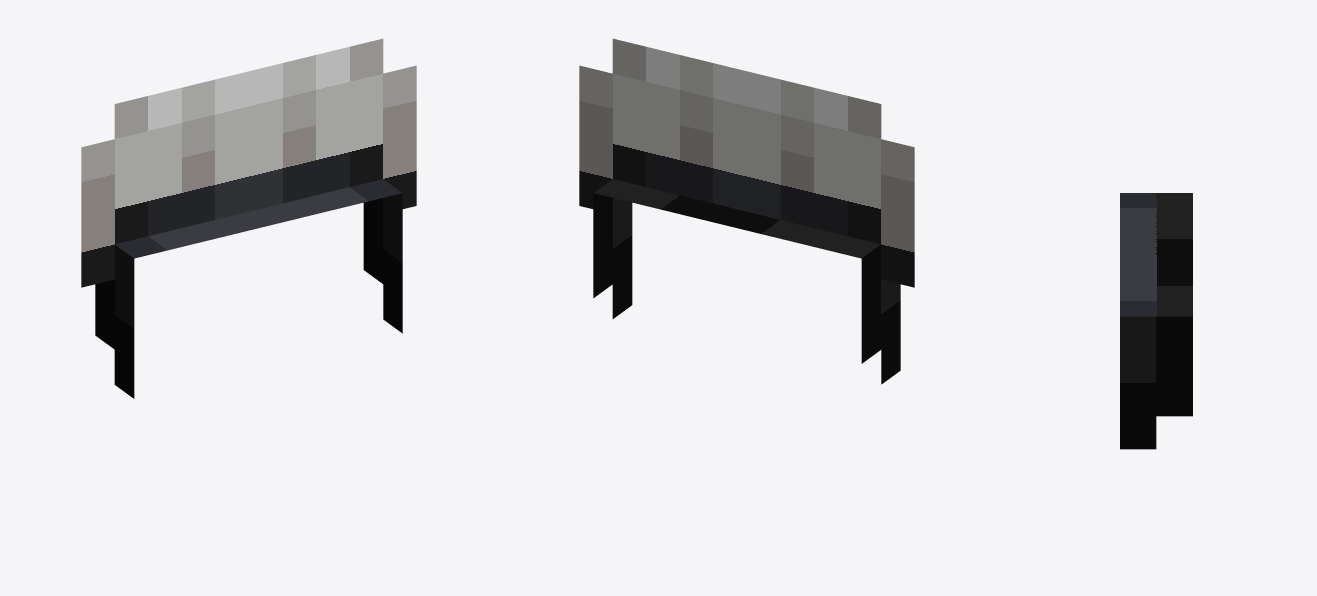
File: sl_maid_hat.glb
3 views of the same model, side by side, from view 1: azimuth 30°, elevation 25°; view 2: azimuth 150°, elevation 25°; view 3: azimuth 270°, elevation 25° (orthographic). The views are drawn at different scales.
Parts seen in each view (by area): view 1: bb_maid_hat; view 2: bb_maid_hat; view 3: bb_maid_hat.
Boxes of the visible parts, <box> form: bb_maid_hat: <box>81,38,416,398</box>; bb_maid_hat: <box>579,38,914,384</box>; bb_maid_hat: <box>1120,193,1192,449</box>.
Bounding box in the file's own units: 0.875 × 0.75 × 0.5.
1 material, 1 textured.
